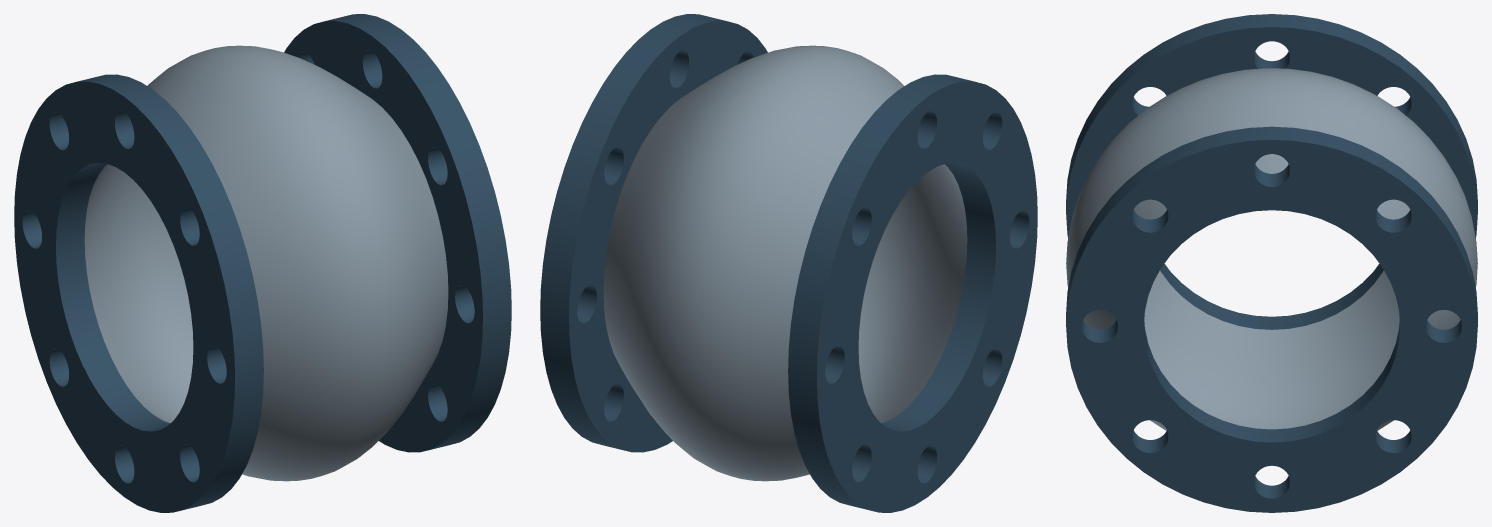
3 views of the same model, side by side, from view 1: azimuth 30°, elevation 25°; view 2: azimuth 150°, elevation 25°; view 3: azimuth 270°, elevation 25° (orthographic). The views are drawn at different scales.
Parts seen in each view (by area): view 1: rebro_vstavka_rezina, homut_flanec_1, homut_flanec_2; view 2: rebro_vstavka_rezina, homut_flanec_1, homut_flanec_2; view 3: homut_flanec_2, rebro_vstavka_rezina, homut_flanec_1.
Boxes of the visible parts, <box> form: rebro_vstavka_rezina: <box>84,45,448,481</box>; homut_flanec_1: <box>14,74,263,512</box>; homut_flanec_2: <box>284,14,511,452</box>; rebro_vstavka_rezina: <box>603,45,967,481</box>; homut_flanec_1: <box>788,74,1037,512</box>; homut_flanec_2: <box>540,14,767,452</box>; homut_flanec_2: <box>1066,126,1477,512</box>; rebro_vstavka_rezina: <box>1066,68,1477,430</box>; homut_flanec_1: <box>1066,14,1477,329</box>.
Size of the model in its own units: 180 by 249 by 249.
